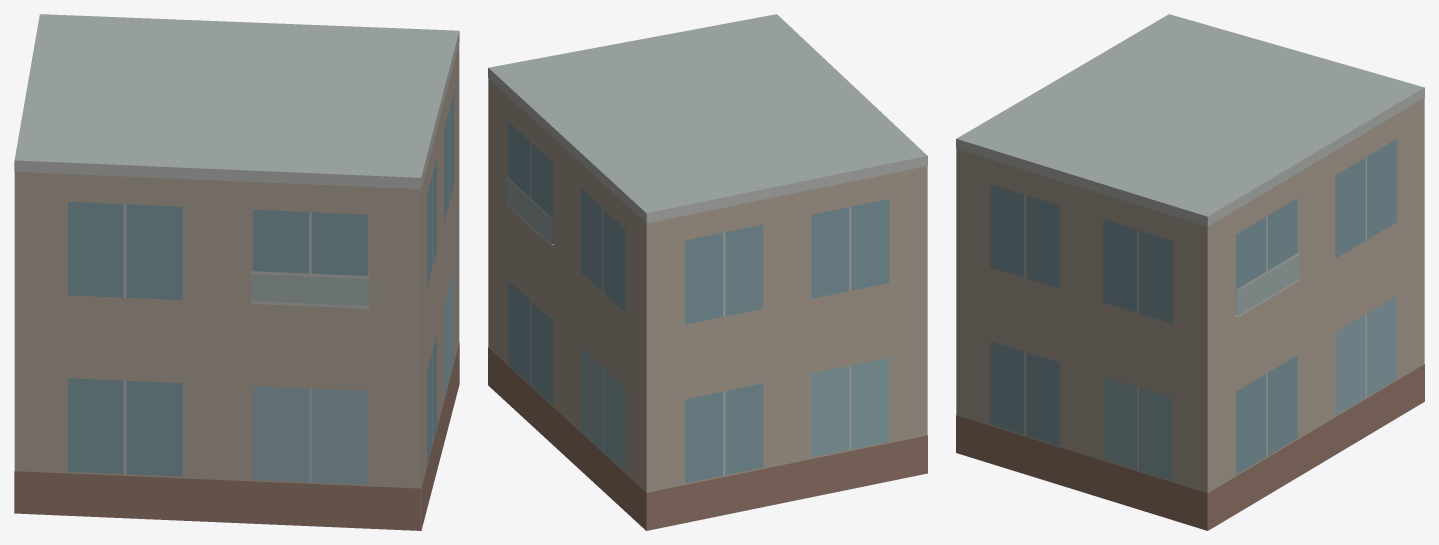
Rendered from survey-upis-32590624.glb.
3 renders of one model, left to right at view 1: azimuth 30°, elevation 25°; view 2: azimuth 150°, elevation 25°; view 3: azimuth 270°, elevation 25°, orthographic. The views are drawn at different scales.
Visible parts, largest first — view 1: survey-upis-32590624.tmp; view 2: survey-upis-32590624.tmp; view 3: survey-upis-32590624.tmp.
Part boxes in pixels (x1=…): survey-upis-32590624.tmp: x1=14, y1=14, x2=459, y2=530; survey-upis-32590624.tmp: x1=488, y1=14, x2=927, y2=530; survey-upis-32590624.tmp: x1=956, y1=14, x2=1424, y2=530.
Size of the model in its own units: 10.53 by 7.6 by 10.28.
